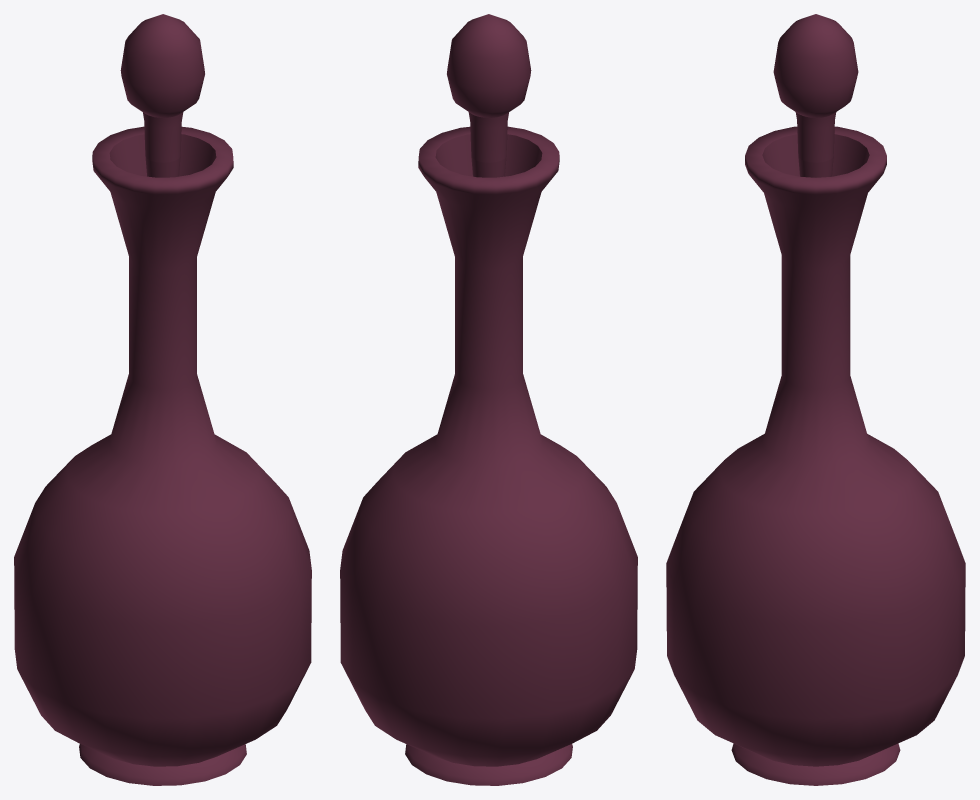
File: OBJ_VaseC_01.fbx
3 renders of one model, left to right at view 1: azimuth 30°, elevation 25°; view 2: azimuth 150°, elevation 25°; view 3: azimuth 270°, elevation 25°, orthographic.
Visible parts, largest first — view 1: vaseC; view 2: vaseC; view 3: vaseC.
Part boxes in pixels (x1,y1,x2,y2): vaseC: [14, 14, 311, 785]; vaseC: [340, 14, 637, 785]; vaseC: [666, 14, 965, 785].
Size of the model in its own units: 0.4559 by 1.24 by 0.4559.
